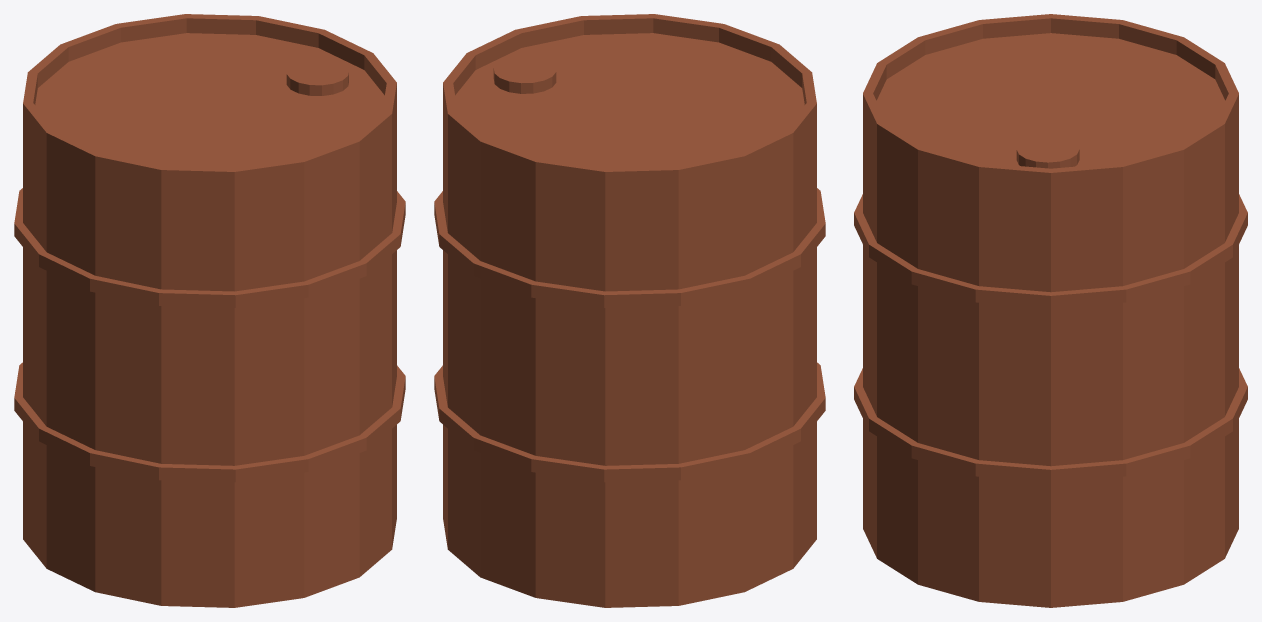
Rendered from oil drum.fbx.
3 renders of one model, left to right at view 1: azimuth 30°, elevation 25°; view 2: azimuth 150°, elevation 25°; view 3: azimuth 270°, elevation 25°, orthographic.
Parts seen in each view (by area): view 1: oil drum; view 2: oil drum; view 3: oil drum.
Boxes of the visible parts, x1,y1,x2,y2 form: oil drum: [14, 14, 405, 607]; oil drum: [434, 14, 825, 607]; oil drum: [854, 14, 1247, 607].
Size of the model in its own units: 239 by 292 by 239.
